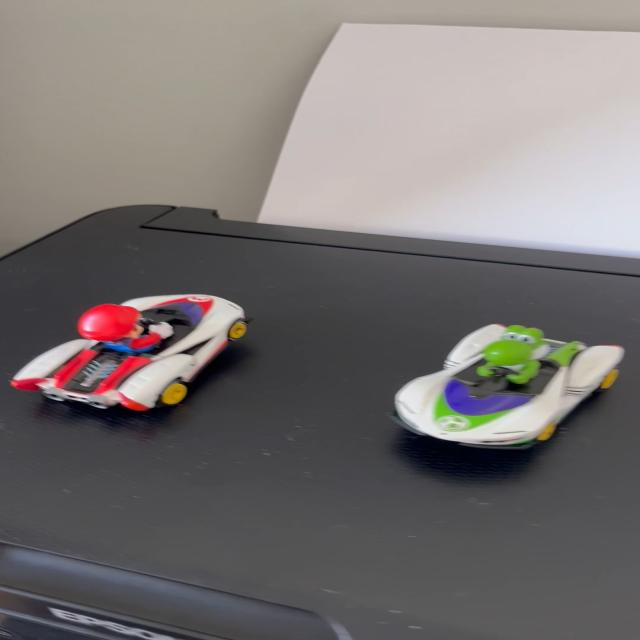mario: (0, 286, 268, 424)
yoshi: (379, 310, 633, 457)
